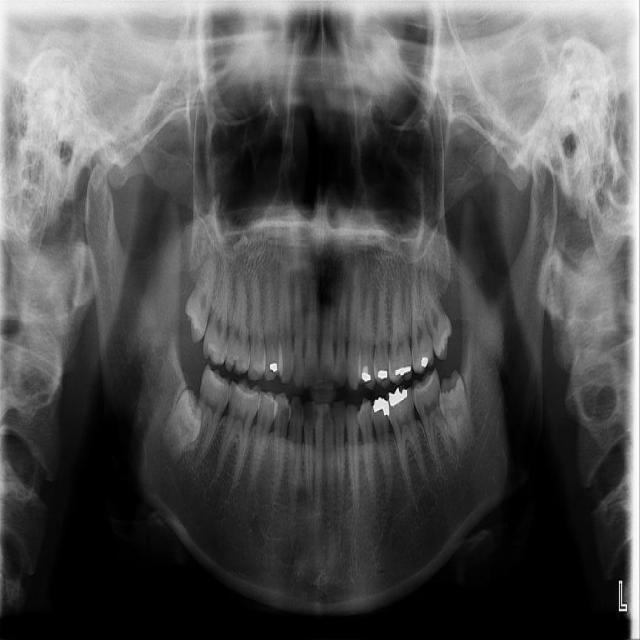Filling: (389, 388, 407, 406), (373, 398, 390, 416), (395, 366, 411, 375), (361, 371, 371, 382), (378, 370, 387, 380), (270, 363, 278, 372), (421, 357, 428, 367)
impacted tooth: (439, 372, 476, 450), (164, 389, 200, 463)
